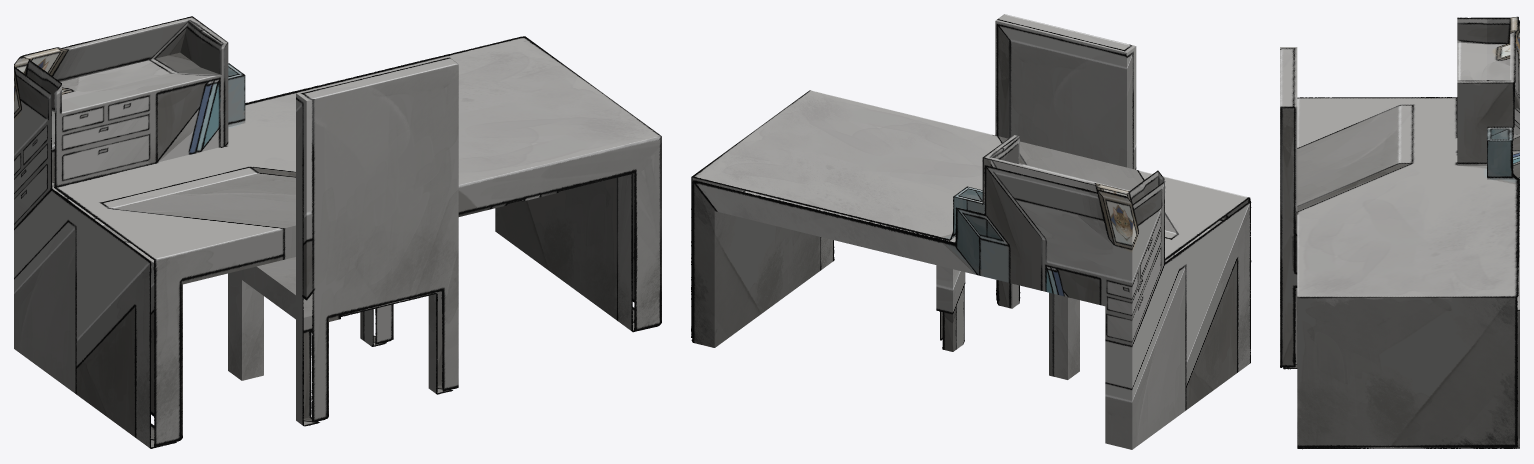
The picture shows the model from 3 angles, left to right: view 1: azimuth 30°, elevation 25°; view 2: azimuth 150°, elevation 25°; view 3: azimuth 270°, elevation 25°; orthographic projection. The views are drawn at different scales.
Parts seen in each view (by area): view 1: 立方体; view 2: 立方体; view 3: 立方体.
Boxes of the visible parts, box(x1,y1,x2,y2) form: 立方体: box(14, 16, 661, 448); 立方体: box(691, 14, 1251, 449); 立方体: box(1280, 16, 1519, 449).
Size of the model in its own units: 2479 by 1522 by 1254.
Materials: 1 (1 with a texture image).
